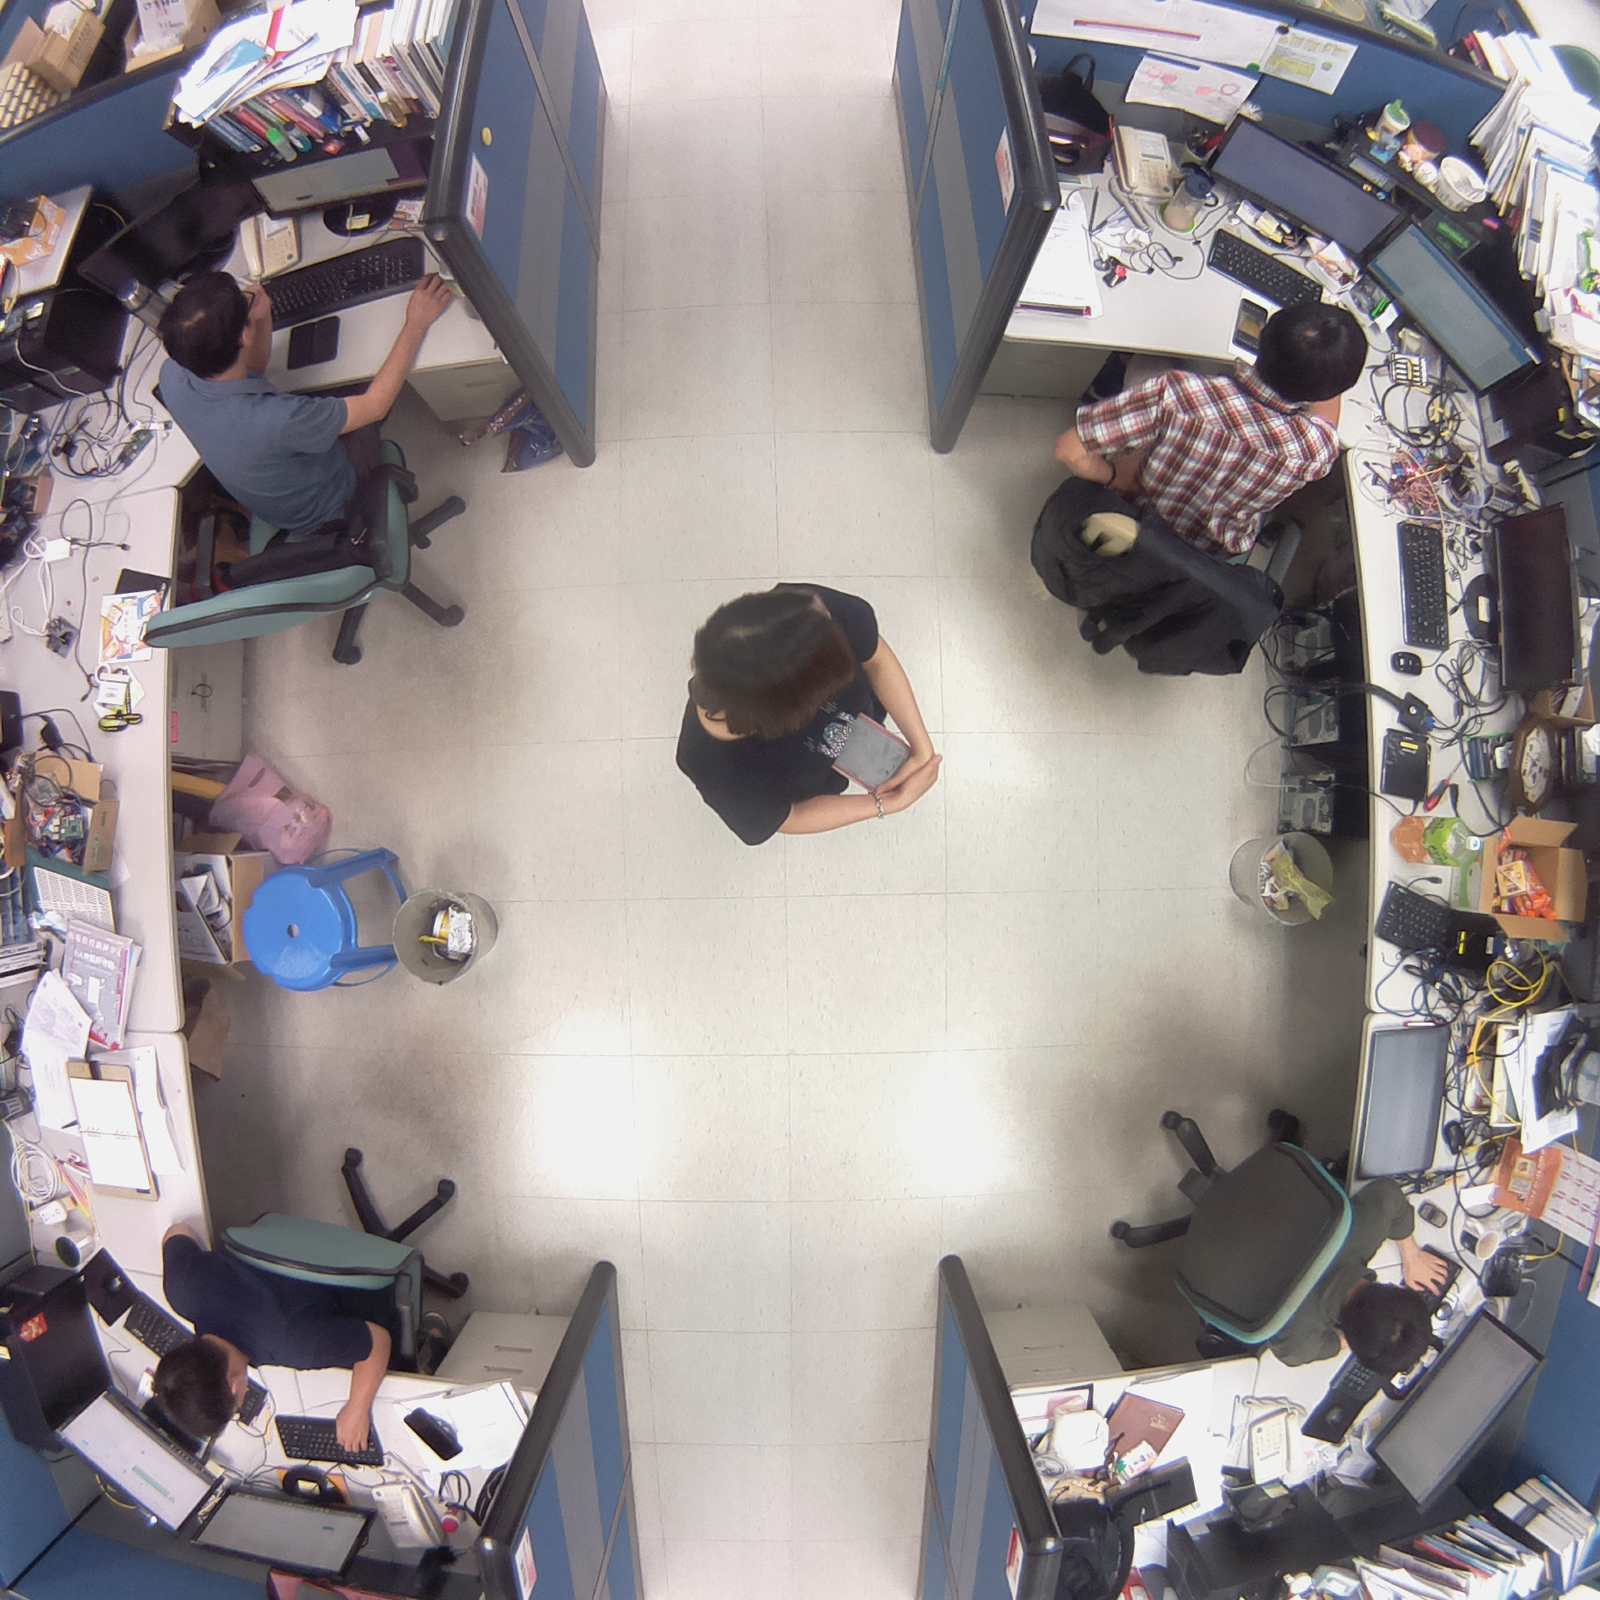head: (677, 576, 866, 747), (143, 258, 268, 387), (143, 1320, 263, 1447), (1241, 294, 1374, 405), (1337, 1276, 1439, 1383)
sitting: (135, 261, 483, 696), (999, 298, 1371, 691), (125, 1134, 491, 1458), (1094, 1091, 1470, 1384), (658, 574, 962, 866)
